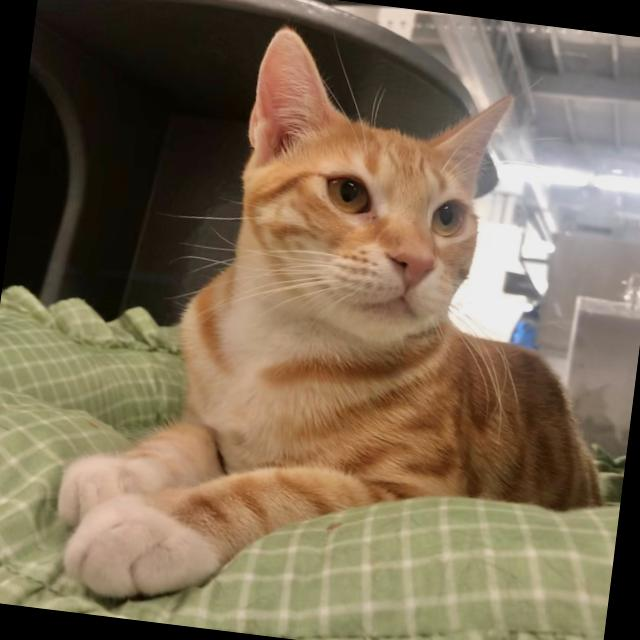american_shorthair_cat: (208, 16, 526, 372)
